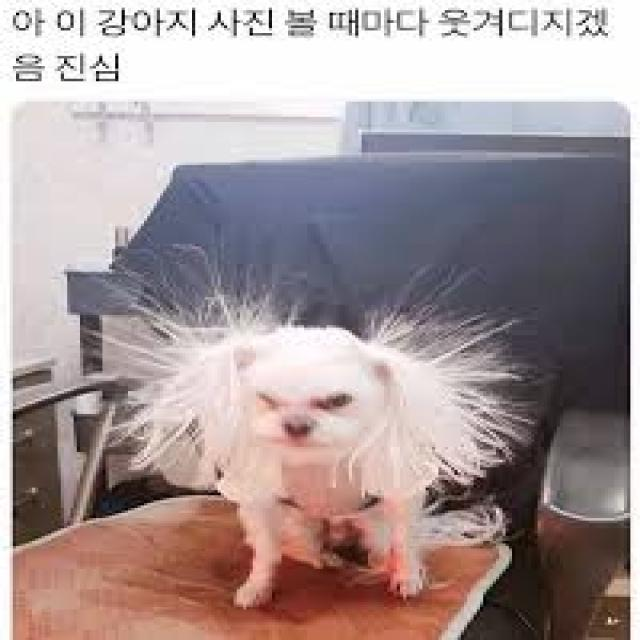dog: (100, 266, 566, 612)
